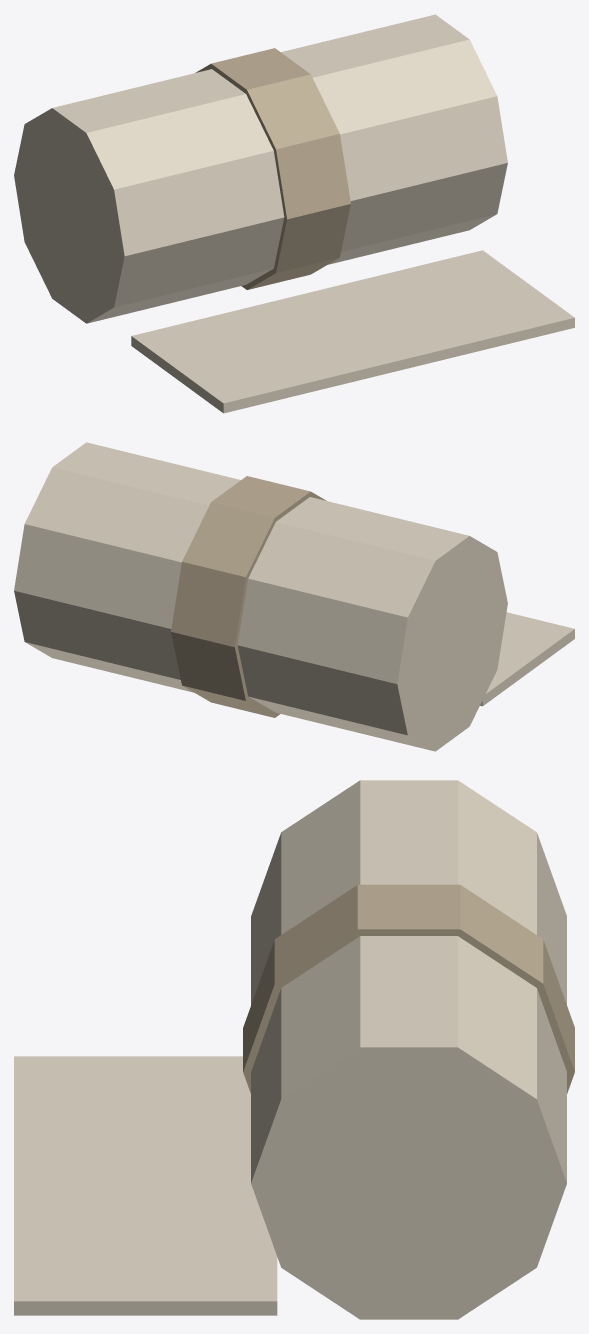
The model's file is prop-polishing-cloth-roll.fbx.
3 views of the same model, one above another, from view 1: azimuth 30°, elevation 25°; view 2: azimuth 150°, elevation 25°; view 3: azimuth 270°, elevation 25° (orthographic). The views are drawn at different scales.
Visible parts, largest first — view 1: prop-polishing-cloth-roll; view 2: prop-polishing-cloth-roll; view 3: prop-polishing-cloth-roll.
Part boxes in pixels (x1=…): prop-polishing-cloth-roll: x1=14, y1=14, x2=574, y2=413; prop-polishing-cloth-roll: x1=14, y1=442, x2=574, y2=751; prop-polishing-cloth-roll: x1=14, y1=780, x2=574, y2=1319.
Size of the model in its own units: 12 by 6 by 10.65.
